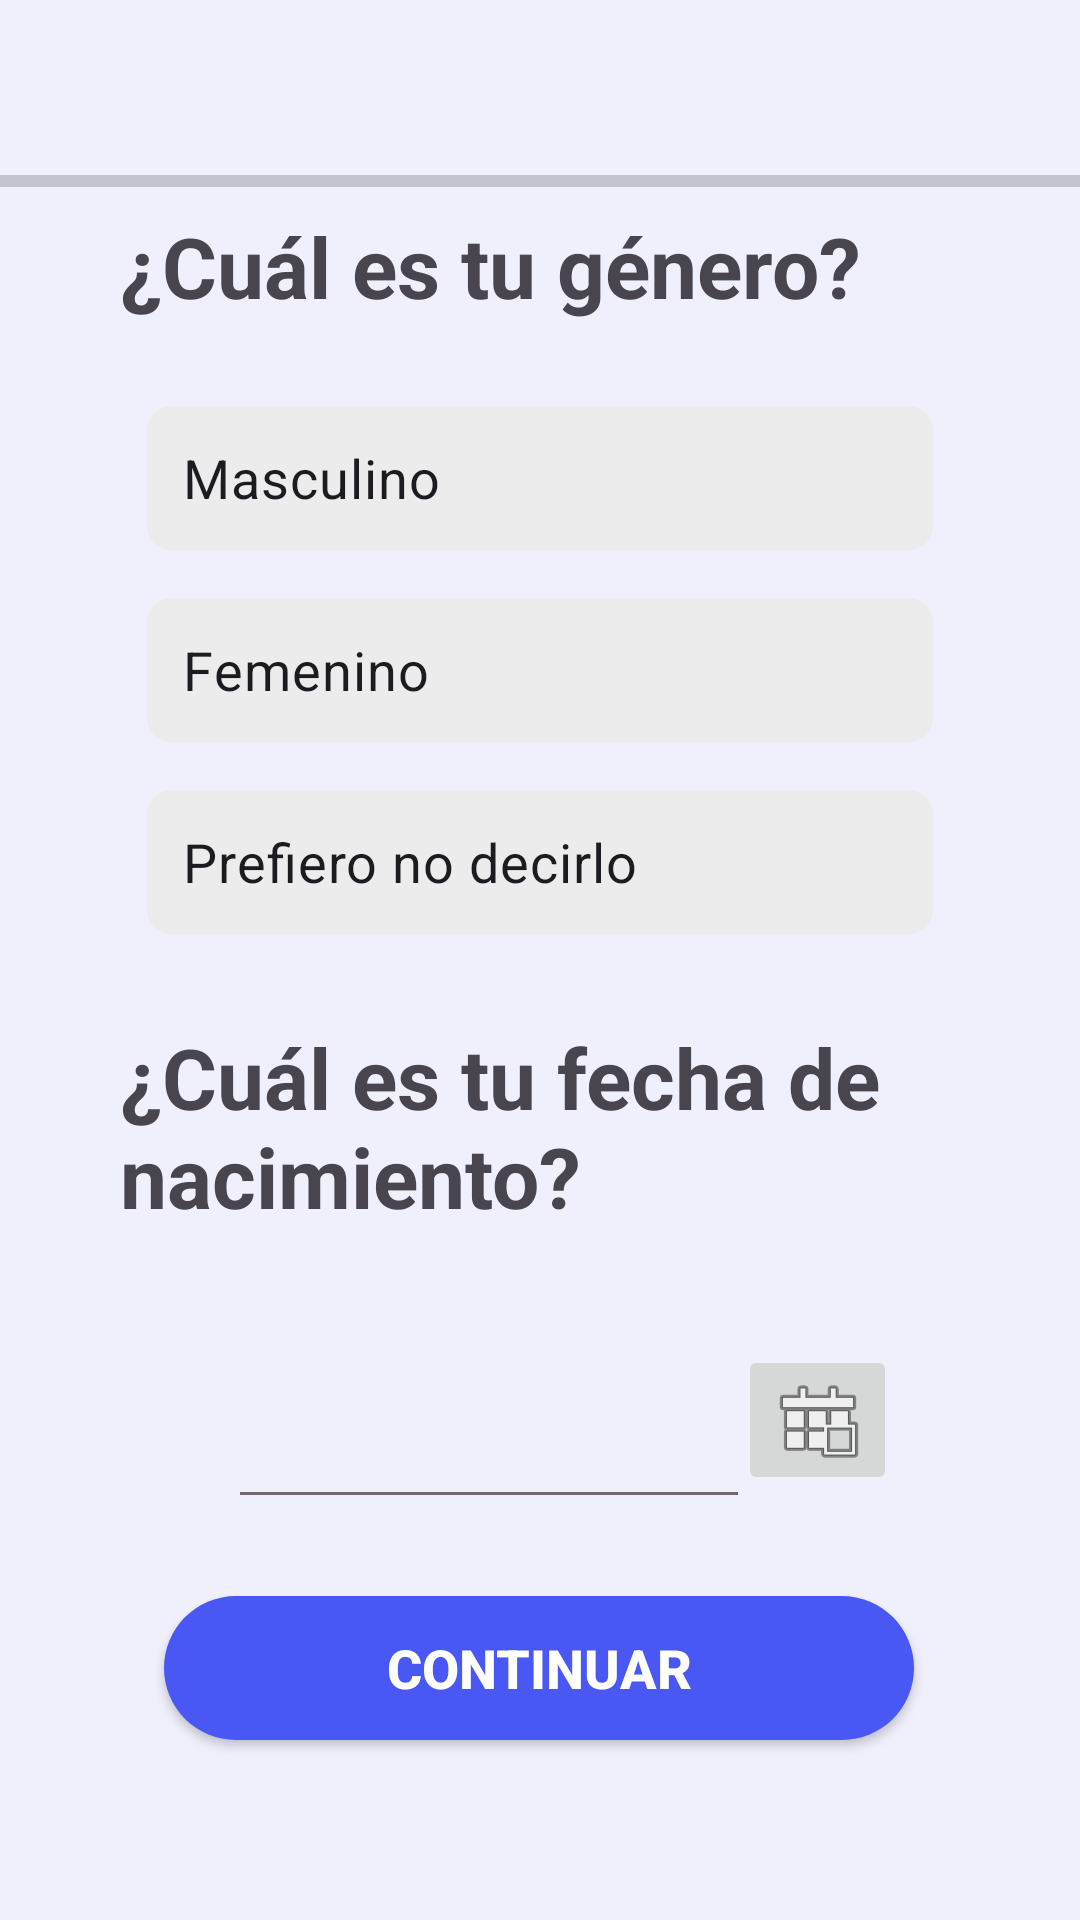

Icons on this 1080 × 1920 Android screen, each with its box as box(x1, y1, x2, y2):
today: box(750, 1363, 885, 1477)
